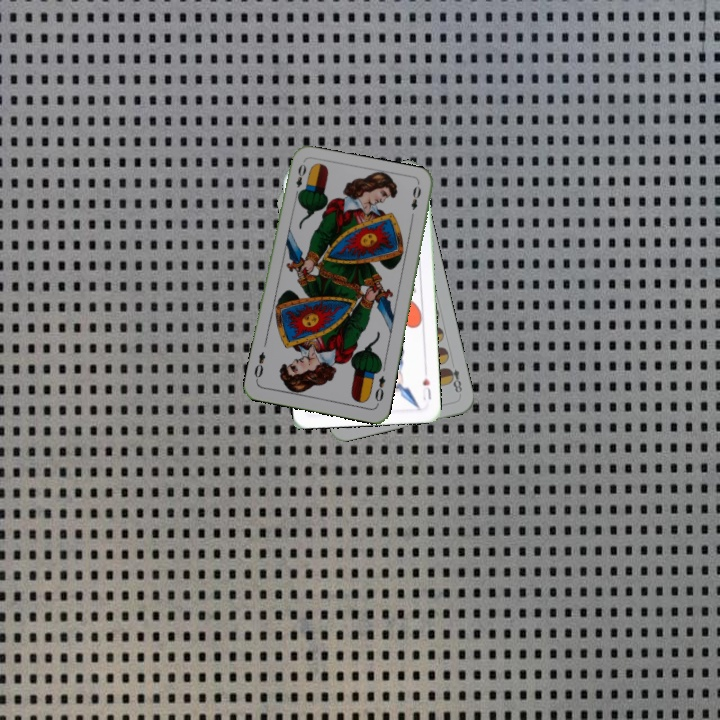E8: (443, 364, 464, 398)
EO: (291, 160, 309, 200), (371, 372, 388, 408)
HU: (418, 374, 433, 403)
